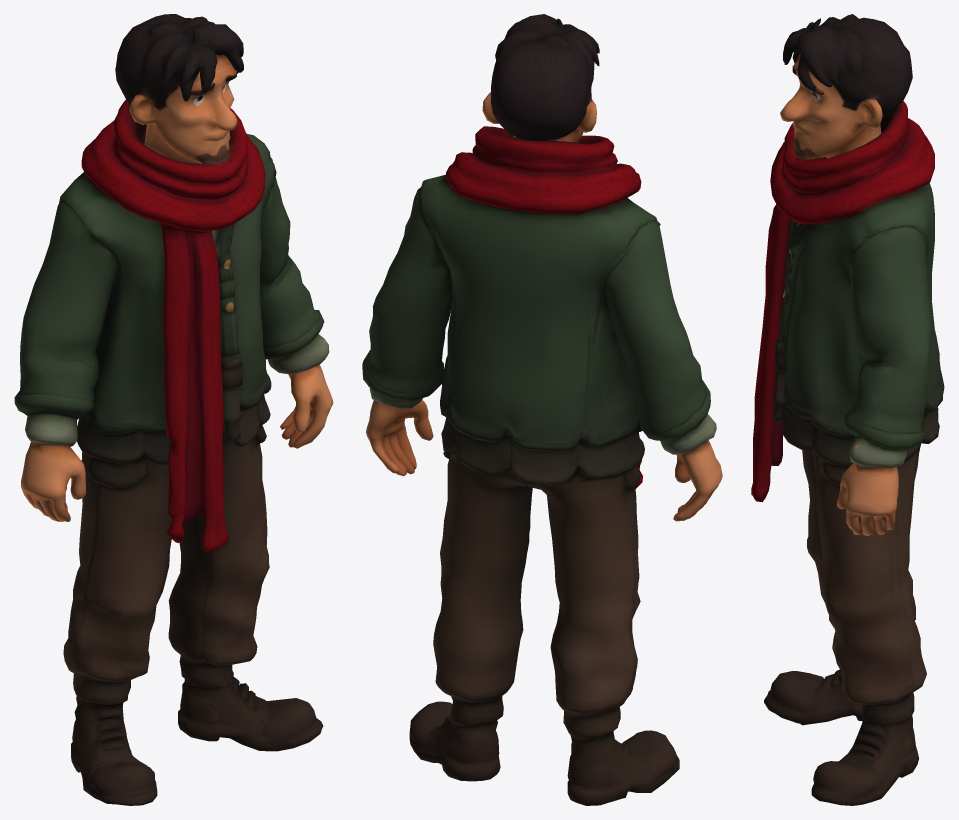
The picture shows the model from 3 angles, left to right: view 1: azimuth 30°, elevation 25°; view 2: azimuth 150°, elevation 25°; view 3: azimuth 270°, elevation 25°; orthographic projection. The views are drawn at different scales.
Visible parts, largest first — view 1: tripo_node_99b34e5f-67cb-470b-8998-56dec49f990f; view 2: tripo_node_99b34e5f-67cb-470b-8998-56dec49f990f; view 3: tripo_node_99b34e5f-67cb-470b-8998-56dec49f990f.
Boxes of the visible parts, bbox=[...] form: tripo_node_99b34e5f-67cb-470b-8998-56dec49f990f: bbox=[14, 14, 333, 805]; tripo_node_99b34e5f-67cb-470b-8998-56dec49f990f: bbox=[362, 14, 722, 805]; tripo_node_99b34e5f-67cb-470b-8998-56dec49f990f: bbox=[751, 14, 944, 805].
Bounding box in the file's own units: 0.4521 × 0.998 × 0.2387.
1 material, 1 textured.
